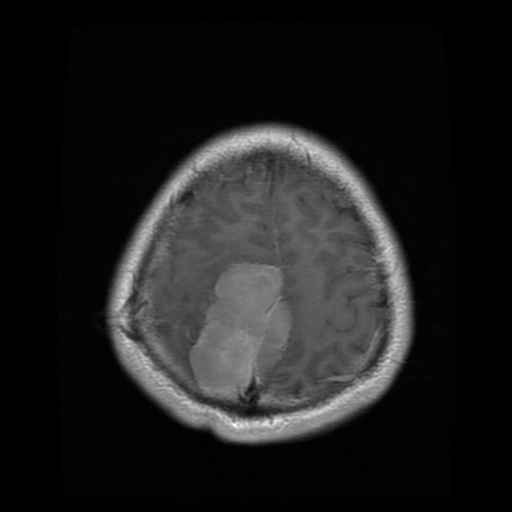meningioma: (189, 262, 293, 396)
